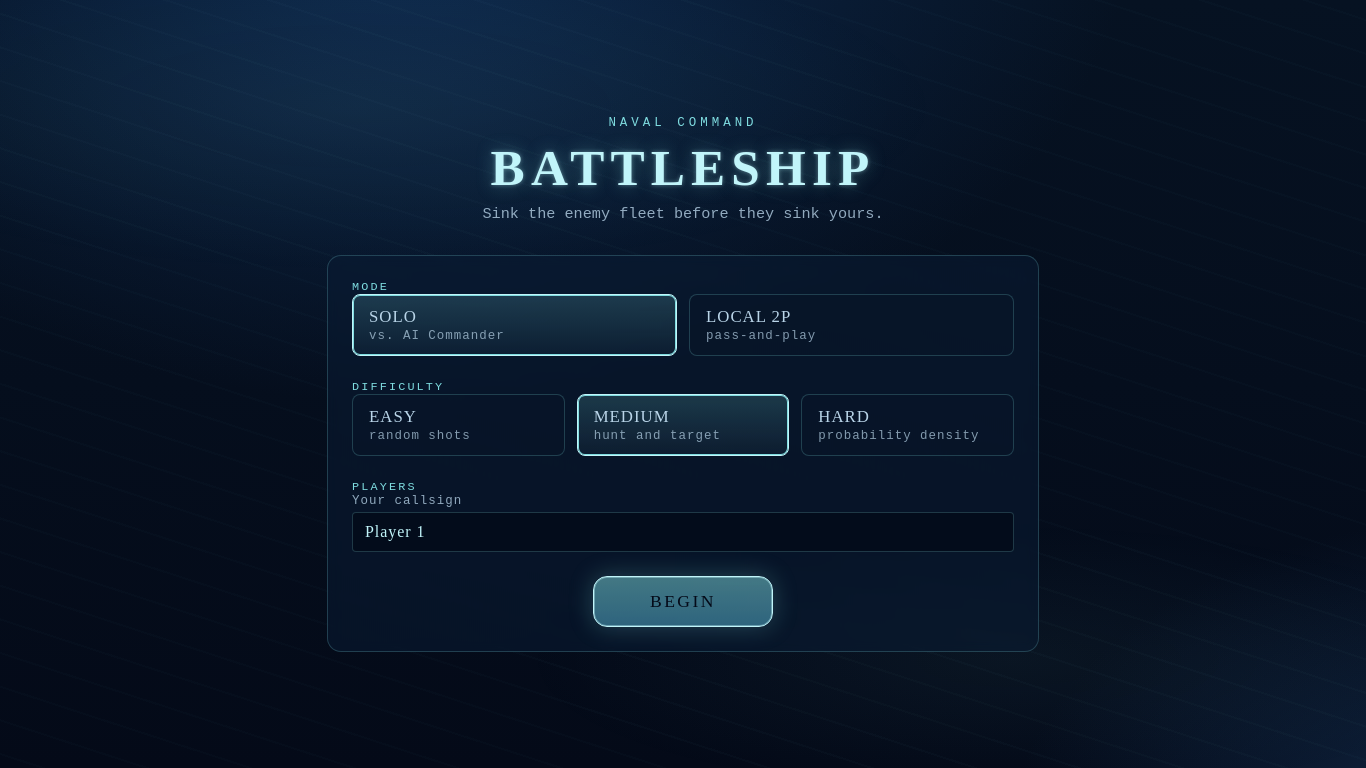
Test: Cell ARIA labels (#43) › Turn banner is in an aria-live region so turn changes announce
Step 1. Click the button with aria-label "begin placement" → (683, 602), box [593,576,773,627]
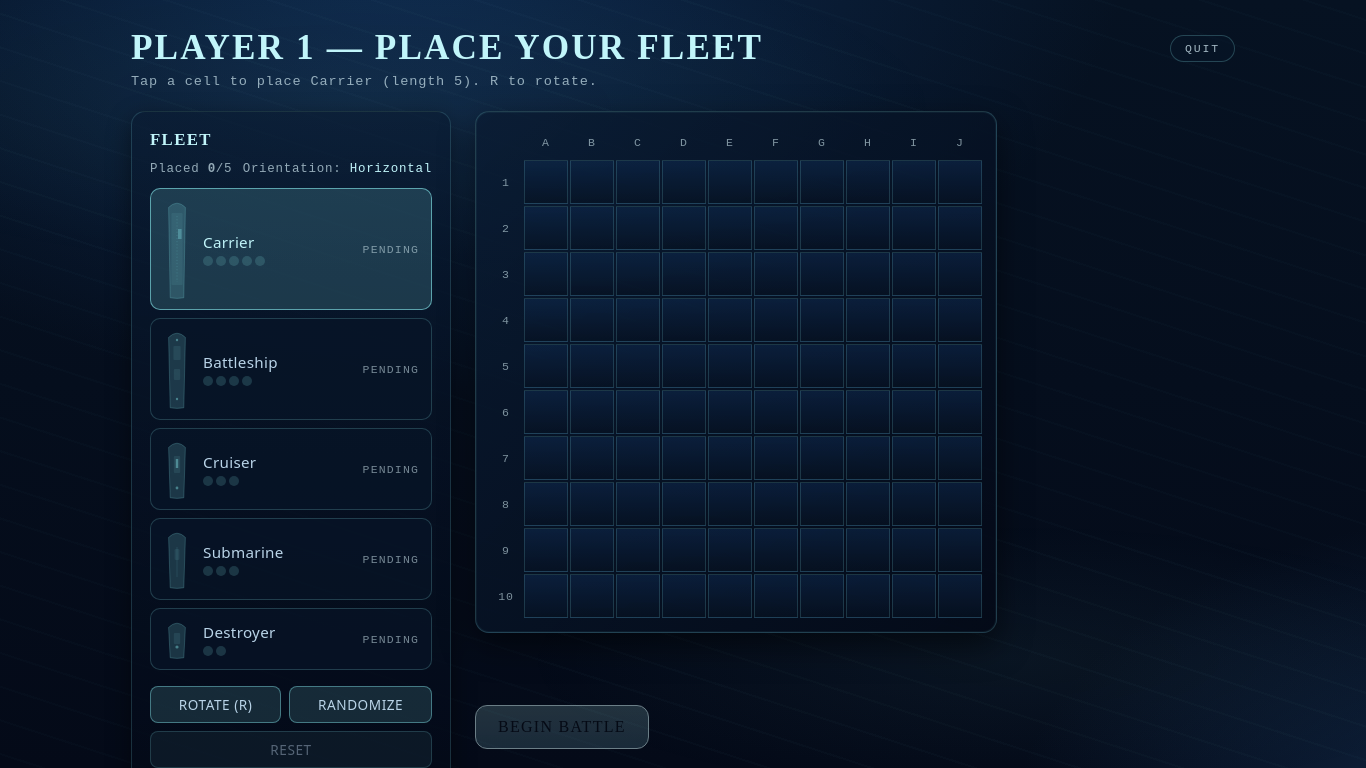
Step 2. Click the button with aria-label "randomize fleet" → (361, 704), box [289,686,432,723]
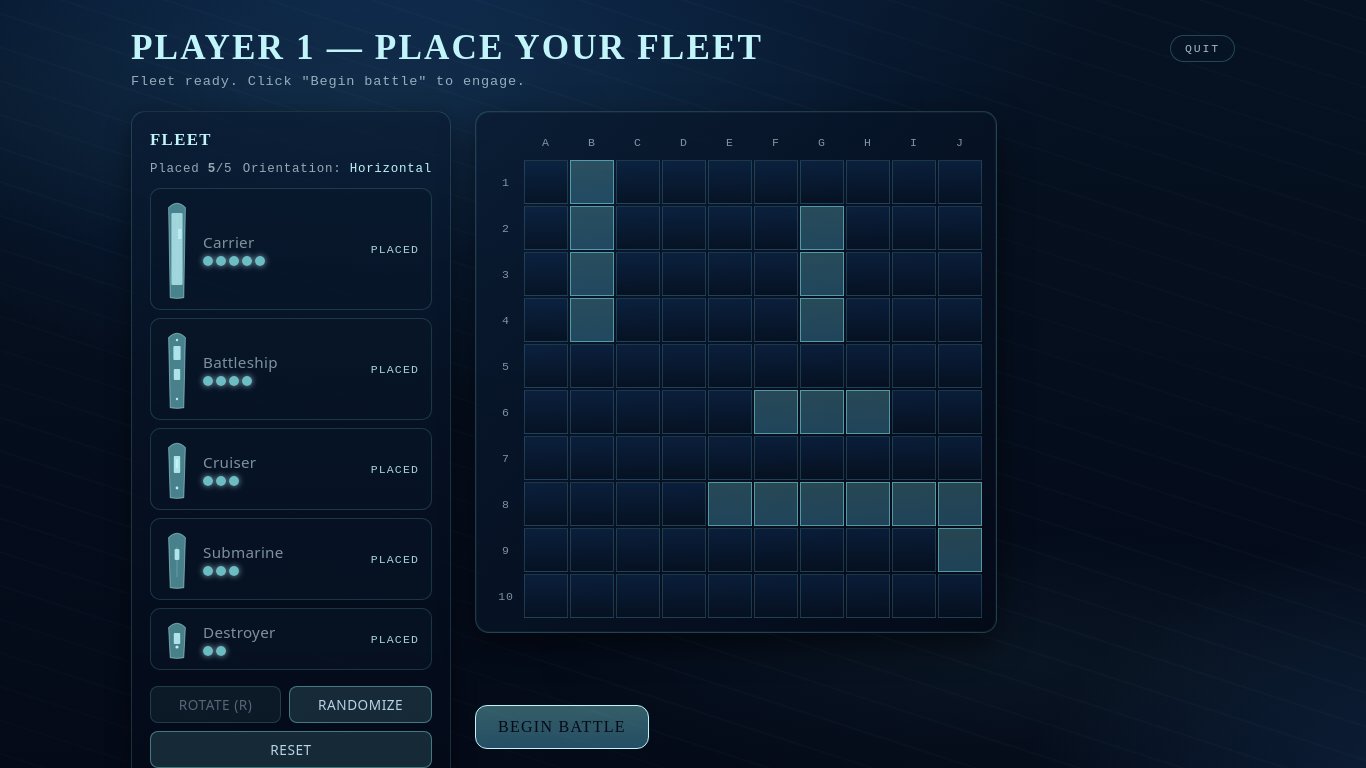
Step 3. Click the button "Begin battle" → (562, 726), box [475,704,649,748]
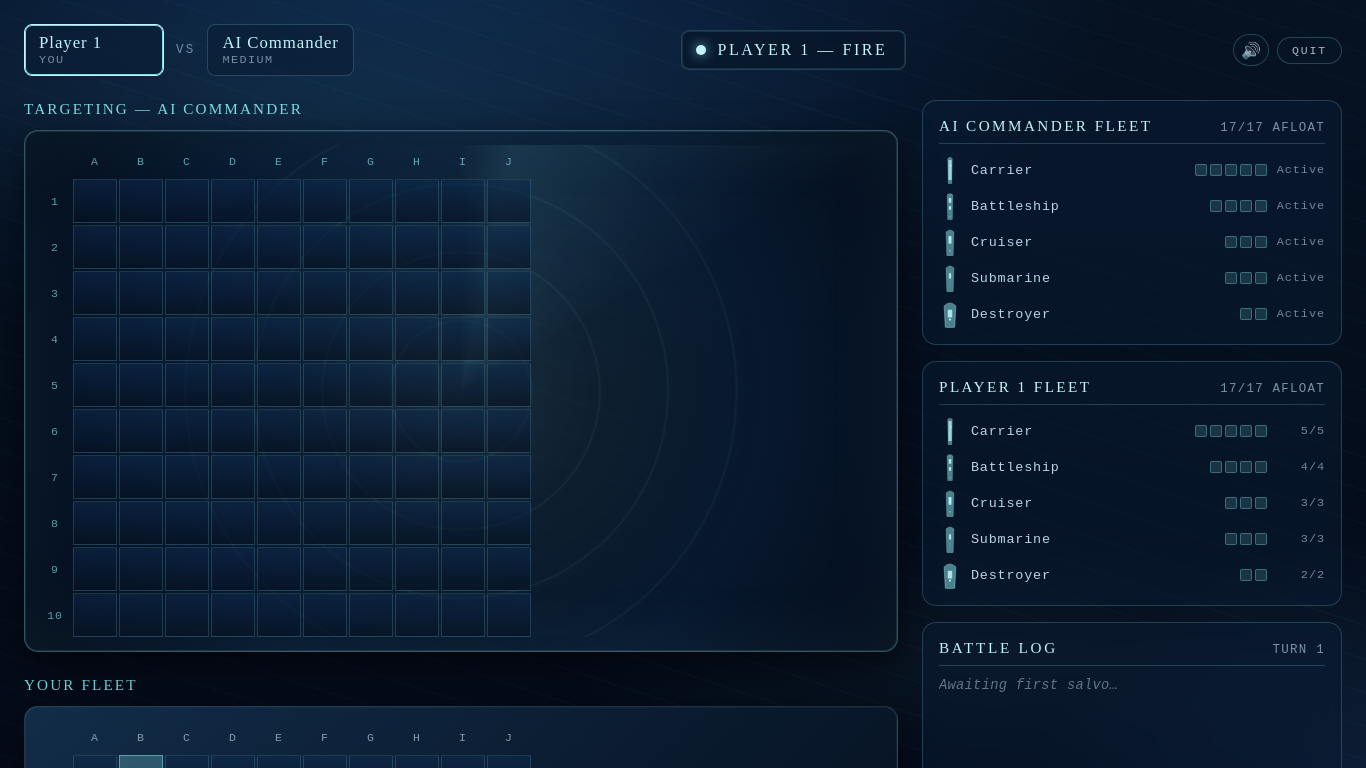
Expected: the text "Player 1 — fire" is shown, [680,30,906,70]
